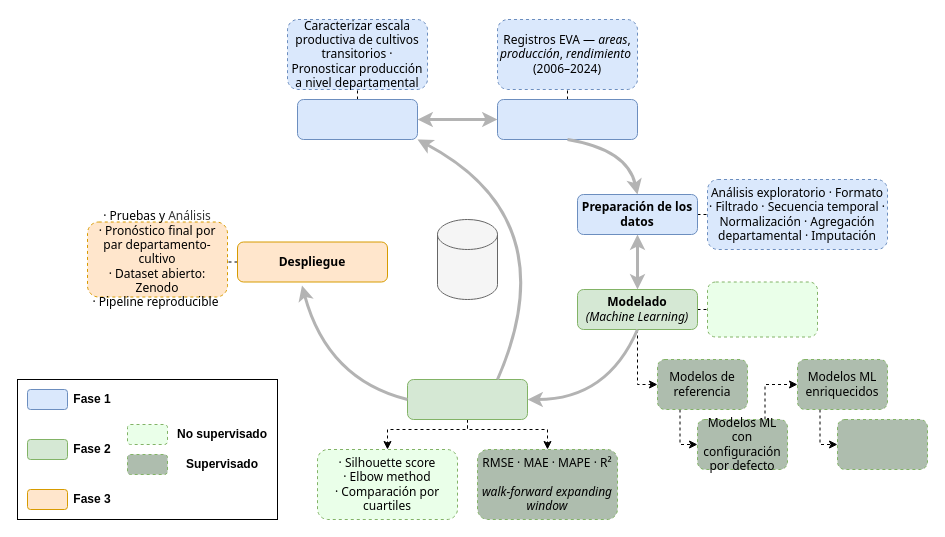
Image size: 945x537. Some labels were removed from this diagram. Here are the shapes that lost their labels. From the top down, the centre of each, then its label:
point (357, 119): Entendiendo el negocio
point (567, 119): Entendiendo los datos (Exploración dataset EVA)
point (467, 259): Data
point (762, 309): Clustering K-Means
point (467, 399): Evaluación
point (882, 444): Modelos ML optimizados
